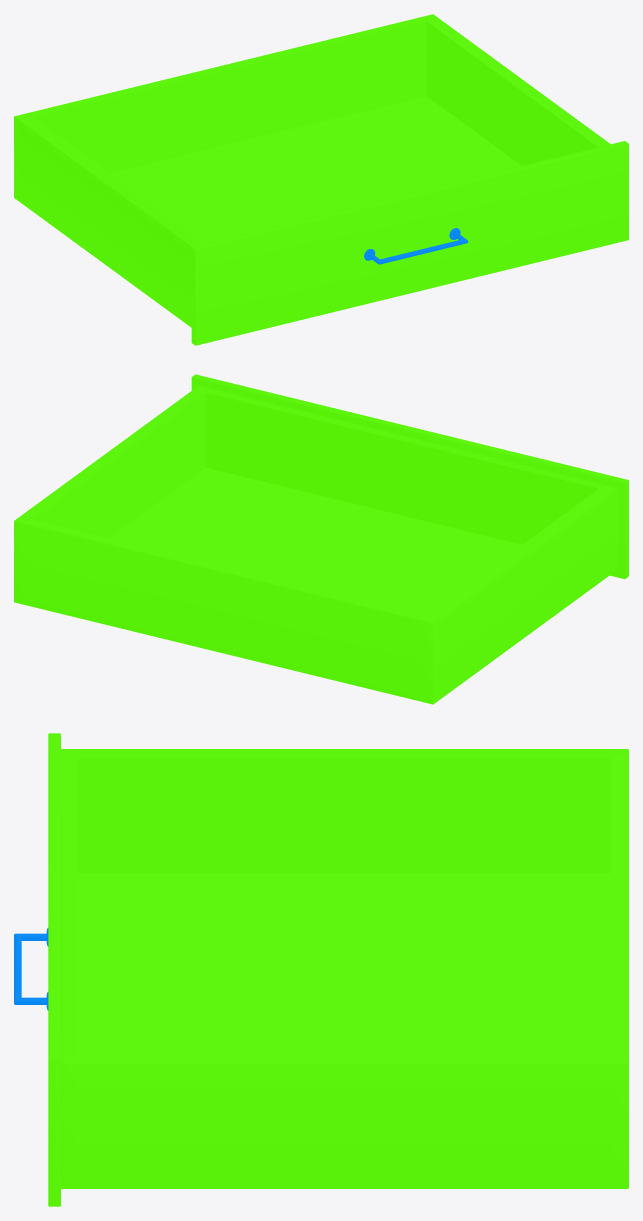
Rendered from SchubladeKueche_01.fbx.
The picture shows the model from 3 angles, top to bottom: view 1: azimuth 30°, elevation 25°; view 2: azimuth 150°, elevation 25°; view 3: azimuth 270°, elevation 25°; orthographic projection. The views are drawn at different scales.
Parts seen in each view (by area): view 1: Handle; view 2: Handle; view 3: Handle.
Boxes of the visible parts, bbox=[...] form: Handle: bbox=[14, 14, 628, 345]; Handle: bbox=[14, 374, 628, 704]; Handle: bbox=[14, 733, 628, 1206].
Bounding box in the file's own units: 61 × 13 × 48.7.
